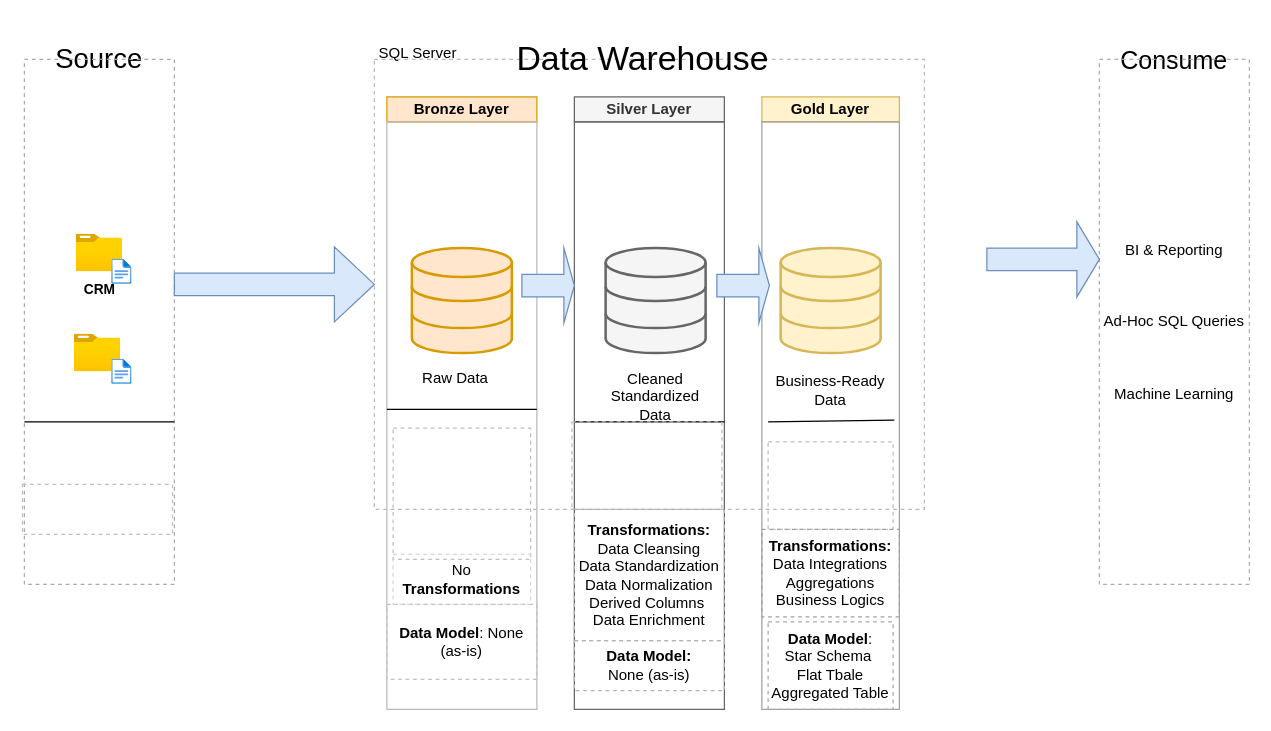
Image size: 1271x731. Some labels were removed from this diagram. Each missing label, with the centre of its shape:
ERP: the point at 97,352
Object type : CSV Files Interface : Files in folder: the point at 96,508
Object type : Table Load: Batch Processing Full Load (Trunc & Insert ): the point at 461,493
Object type : Table Load: Batch Processing Full Load Truncate & Insert: the point at 646,465
Object type: Views No Load: the point at 830,484
